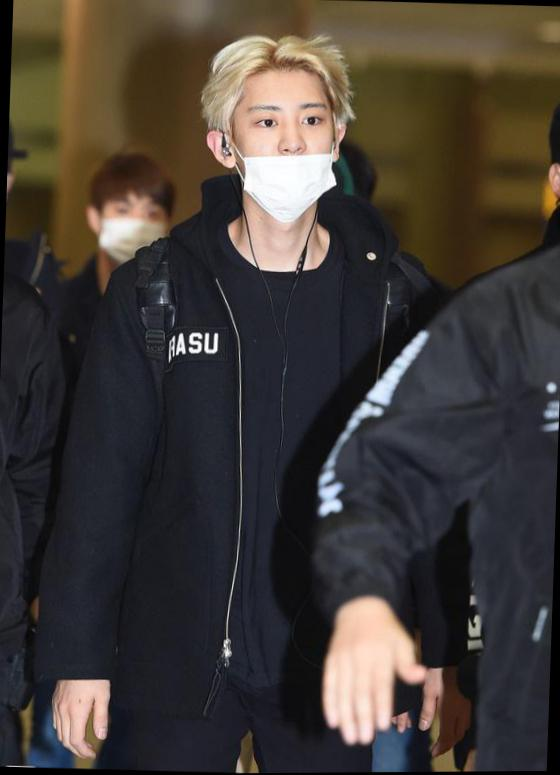OK: (91, 187, 174, 270)
WRONG: (218, 84, 351, 218)
